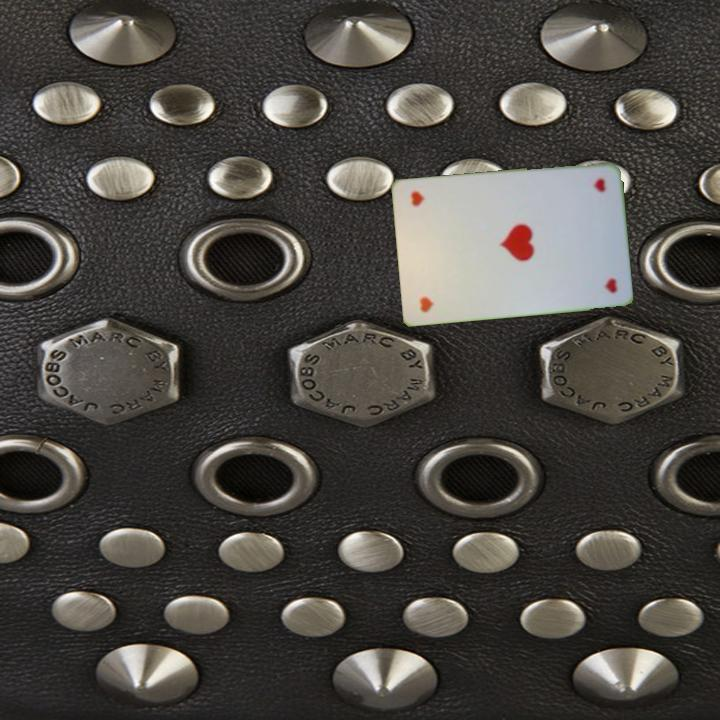h_a.png: (407, 244, 470, 316), (554, 170, 617, 241)
